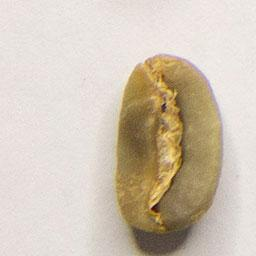longberry: (112, 50, 229, 240)
